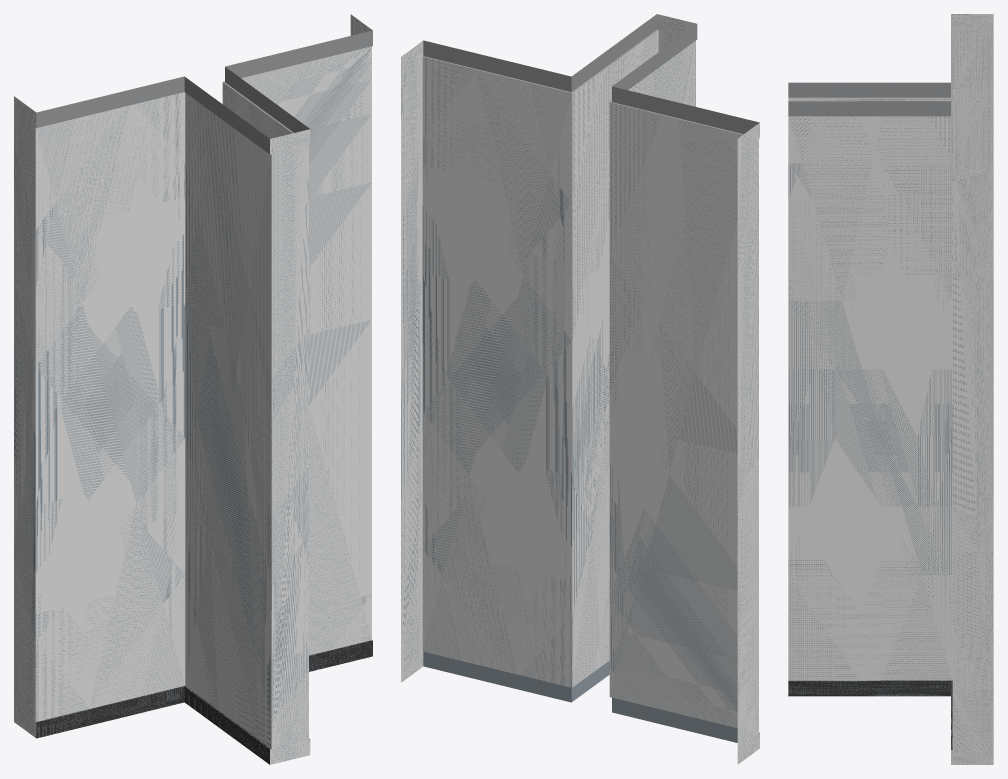
File: Corner_os_double_plinth_100x100x025x4.dae
3 renders of one model, left to right at view 1: azimuth 30°, elevation 25°; view 2: azimuth 150°, elevation 25°; view 3: azimuth 270°, elevation 25°, orthographic. The views are drawn at different scales.
Parts seen in each view (by area): view 1: group_0 (×5); view 2: group_0 (×5); view 3: group_0 (×4).
Part boxes in pixels (x1,y1,x2,y2): group_0 (×5): (14,14,372,764); group_0 (×5): (401,14,759,764); group_0 (×4): (788,14,993,764).
Size of the model in its own units: 88.58 by 49.21 by 157.
